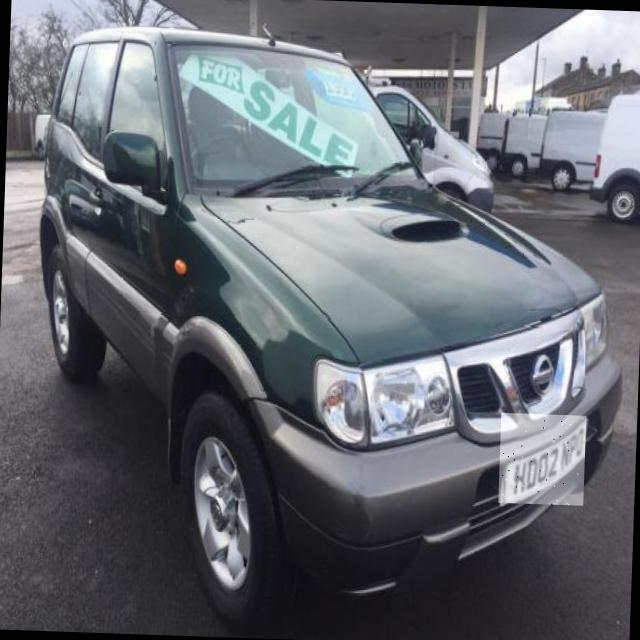Plate: (499, 414, 587, 507)
